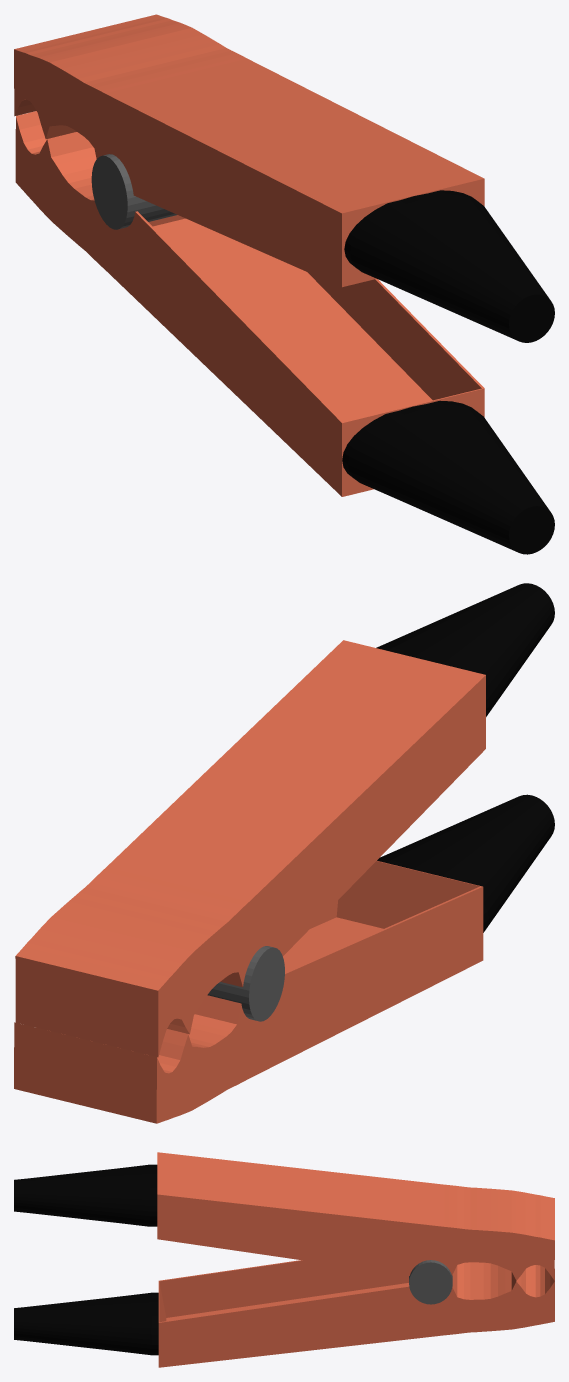
Rendered from svirka.fbx.
3 views of the same model, one above another, from view 1: azimuth 30°, elevation 25°; view 2: azimuth 150°, elevation 25°; view 3: azimuth 270°, elevation 25° (orthographic). The views are drawn at different scales.
Parts seen in each view (by area): view 1: Cylinder; view 2: Cylinder; view 3: Cylinder.
Boxes of the visible parts, left/top/right/bottom form: Cylinder: left=14, top=14, right=554, bottom=554; Cylinder: left=14, top=583, right=554, bottom=1123; Cylinder: left=14, top=1152, right=554, bottom=1367.
Bounding box in the file's own units: 46.16 × 80.32 × 227.
